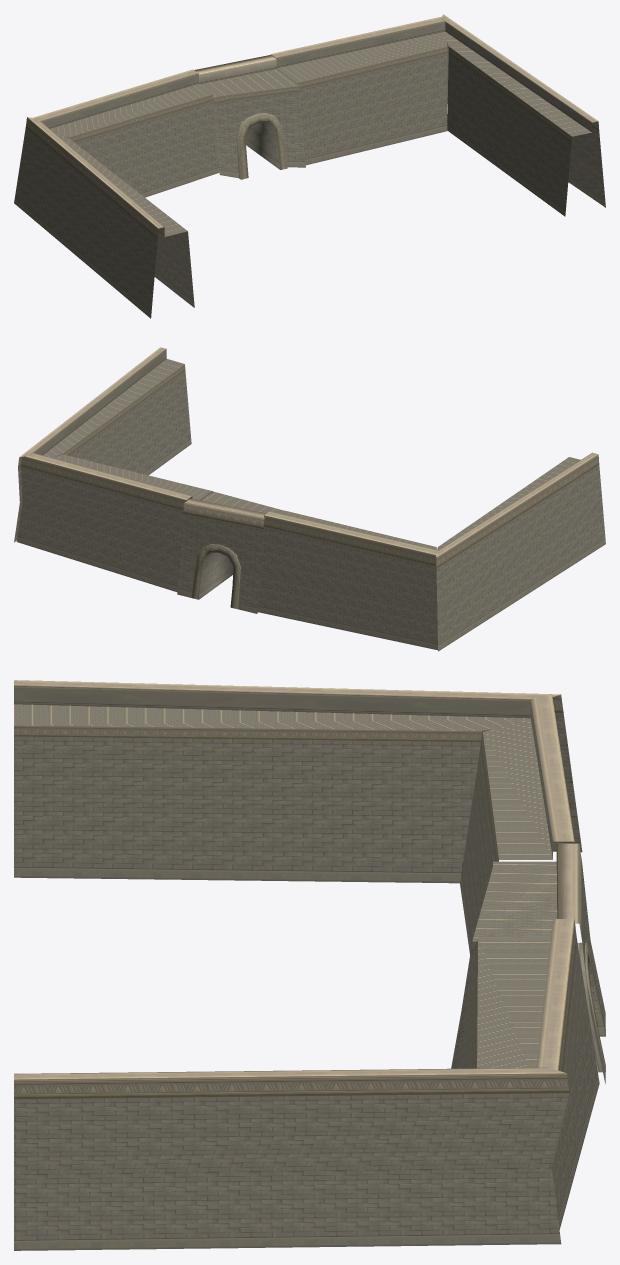
The model's file is BG_weiqiang_02.FBX.
The picture shows the model from 3 angles, top to bottom: view 1: azimuth 30°, elevation 25°; view 2: azimuth 150°, elevation 25°; view 3: azimuth 270°, elevation 25°; orthographic projection. The views are drawn at different scales.
Parts seen in each view (by area): view 1: chach_jz006_1553; view 2: chach_jz006_1553; view 3: chach_jz006_1553.
Boxes of the visible parts, bbox=[...] form: chach_jz006_1553: bbox=[14, 14, 605, 318]; chach_jz006_1553: bbox=[14, 347, 605, 651]; chach_jz006_1553: bbox=[14, 680, 605, 1250].
Size of the model in its own units: 0.0898 by 0.0176 by 0.0544.
